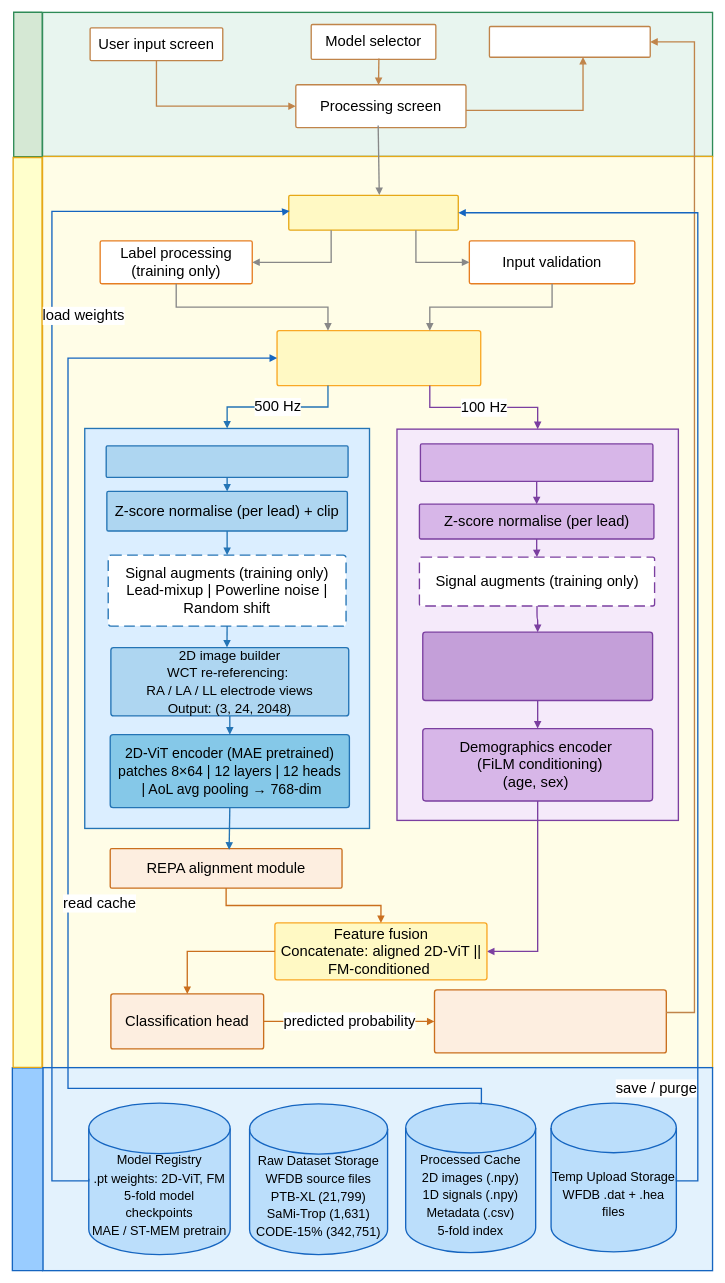
This 725x1283 diagram has some shape labels left out. Here are the shapes that lost their labels. From the top down, the box of each, then its label:
(488, 25, 651, 58): Output screen
(13, 11, 42, 157): Presentation Tier
(288, 194, 459, 230): Flask gateway
(276, 330, 481, 386): Common preprocessing Baseline removal | Pad / truncate
(105, 445, 348, 478): Resample to 500 Hz
(419, 443, 653, 482): Resample to 100 Hz
(12, 157, 42, 1068): Logic Tier
(422, 631, 653, 701): Foundation model (ST-MEM pretrained) AoL avg pooling
(433, 989, 667, 1053): Ensemble inference (5-fold CV) Average predicted probabilities
(11, 1067, 43, 1271): Data Tier
